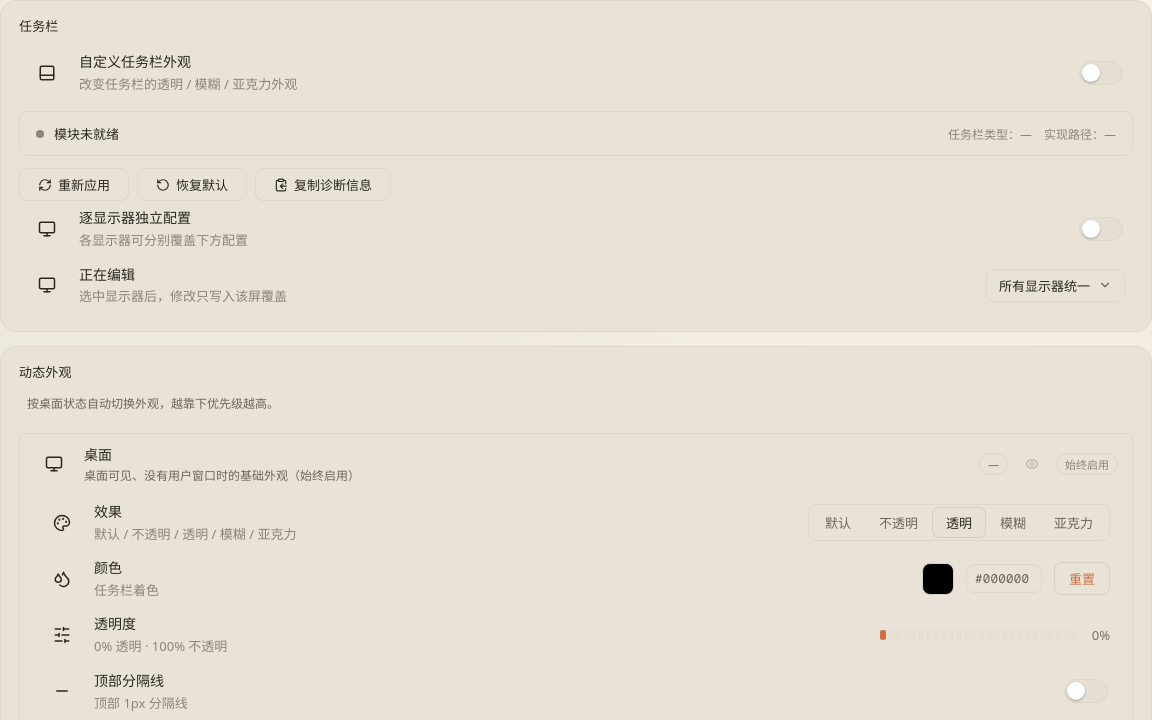
Test case: TaskbarPage · HEADER 显示器选择器（F-6） › 浏览器模式：只有「所有显示器统一」，不发 list_monitors
Step 1. Click the button "所有显示器统一" → (1056, 285), box x1=986 y1=269 x2=1125 y2=302
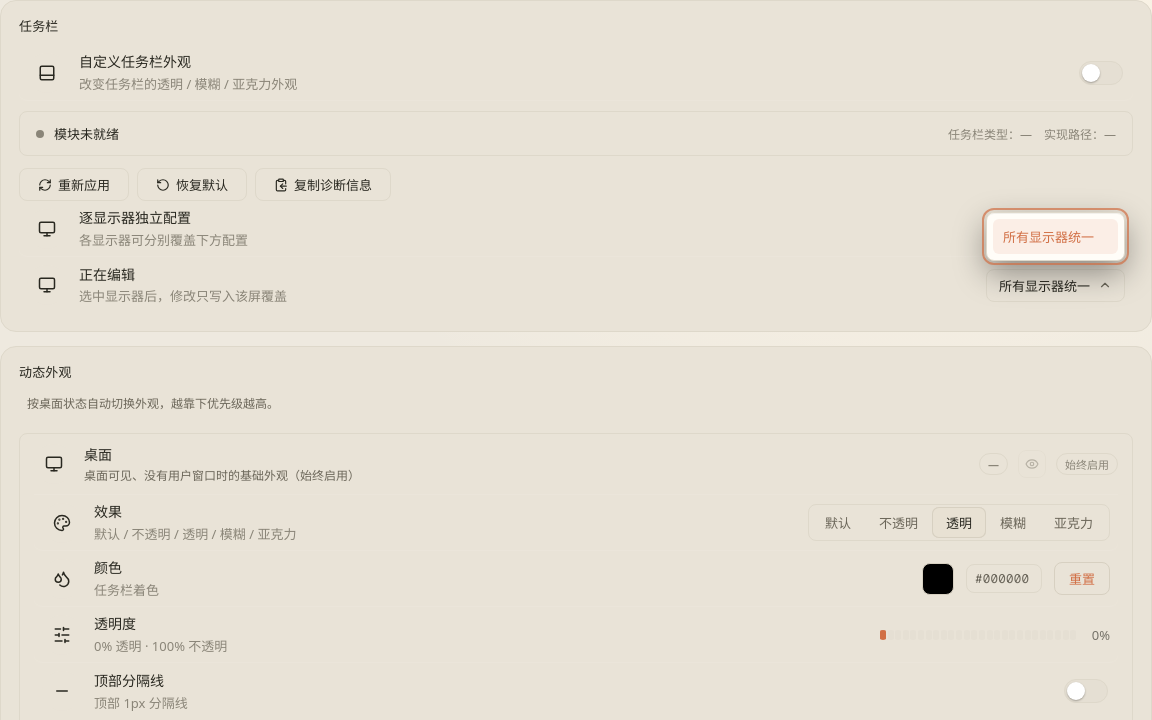
Now the number of options is 1, box x1=993 y1=219 x2=1118 y2=254
